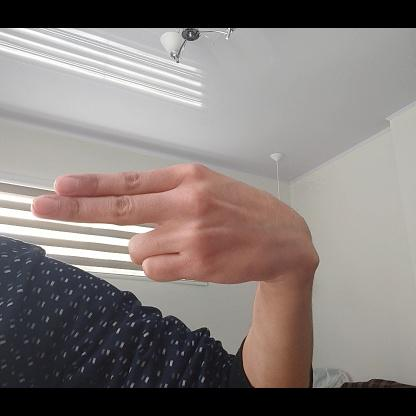H: (30, 162, 337, 286)
